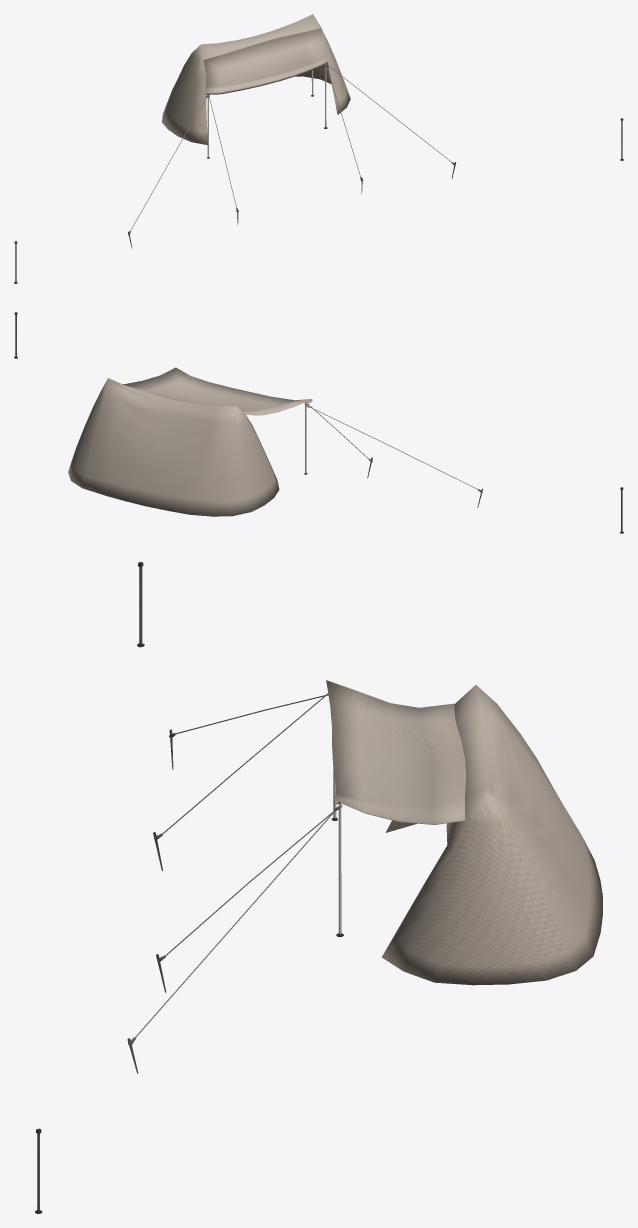
The model's file is Ht_zhangpeng_01.FBX.
3 views of the same model, one above another, from view 1: azimuth 30°, elevation 25°; view 2: azimuth 150°, elevation 25°; view 3: azimuth 270°, elevation 25° (orthographic). The views are drawn at different scales.
Visible parts, largest first — view 1: Ht_zhangpeng_01; view 2: Ht_zhangpeng_01; view 3: Ht_zhangpeng_01.
Boxes of the visible parts, x1=… form: Ht_zhangpeng_01: x1=14, y1=14, x2=623, y2=283; Ht_zhangpeng_01: x1=14, y1=312, x2=623, y2=533; Ht_zhangpeng_01: x1=35, y1=562, x2=602, y2=1213.
Size of the model in its own units: 3025 by 562 by 1275.
